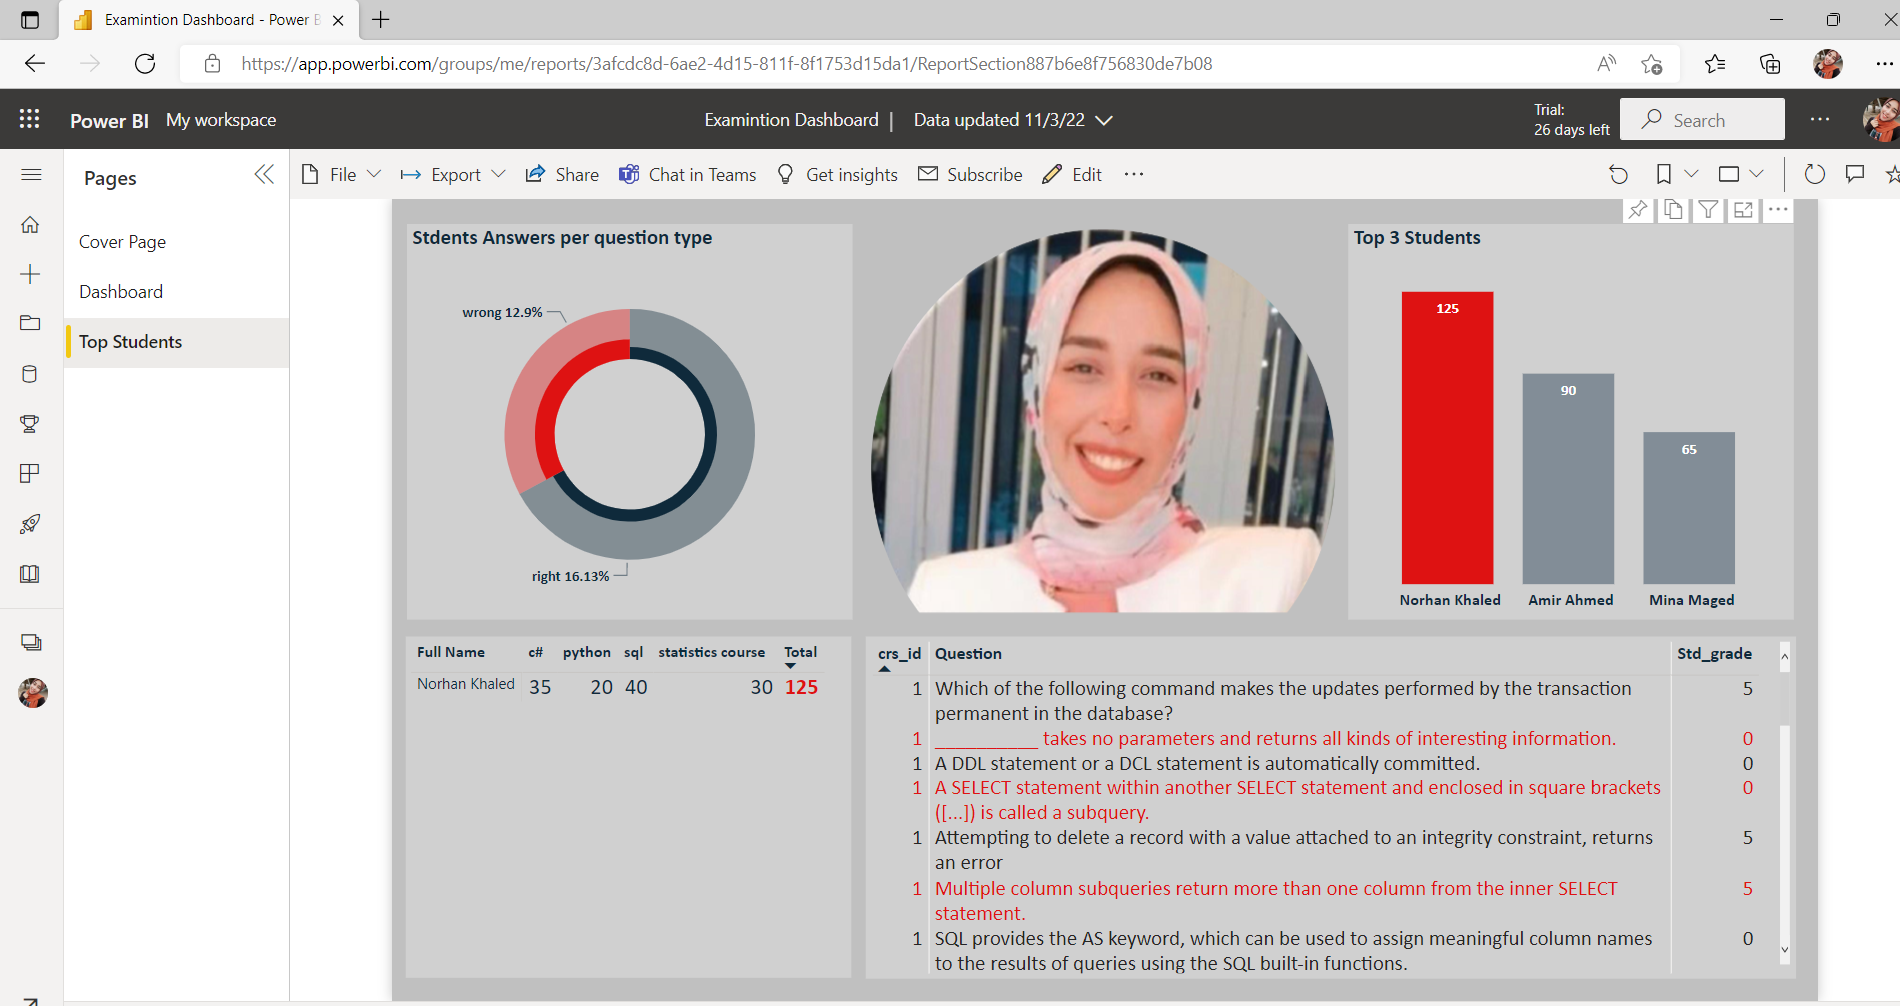

The page's visual inventory and layout, read from the dashboard file:
{"tool":"powerbi","page":{"name":"Top Students","canvas":[1280,720],"ordinal":2},"visuals":[{"type":"pivotTable","fields":{"Rows":["Student.Std_FullName"],"Columns":["Course.crs_name"],"Values":["Sum(exam_Q_std.std_Q_grade)"]},"box":[12.8,392.6,399.7,306.1],"z":0},{"type":"clusteredColumnChart","title":"Top 3 Students","fields":{"Category":["Student.Std_FullName"],"Y":["Sum(exam_Q_std.std_Q_grade)"]},"box":[858.9,22.7,400,355],"z":1000},{"type":"donutChart","title":"Stdents Answers per question type","fields":{"Category":["exam_Q_std.Answers"],"Y":["CountNonNull(exam_Q_std.Answers)"]},"box":[12.9,22.6,400,355],"z":2000},{"type":"tableEx","fields":{"Values":["Course.crs_id","Questions.Question","Sum(exam_Q_std.std_Q_grade)"]},"box":[425.2,392.6,834.8,307.6],"z":3000},{"type":"ImgViewerVisual1455487926945","fields":{"Values":["Images.Url"]},"box":[425.2,22.7,426.6,354.3],"z":4000}]}

Visuals, with their boxes on the page's 1280x720 design canvas (x1, y1, x2, y2). These are canvas units, not pixel positions in the 1900x1006 screenshot, which may show the page scaled, cropped or inside an application window:
pivotTable - Student.Std_FullName x Course.crs_name: region(13, 393, 412, 699)
"Top 3 Students" clusteredColumnChart: region(859, 23, 1259, 378)
"Stdents Answers per question type" donutChart: region(13, 23, 413, 378)
tableEx - Course.crs_id x Questions.Question: region(425, 393, 1260, 700)
ImgViewerVisual1455487926945 - Images.Url: region(425, 23, 852, 377)
